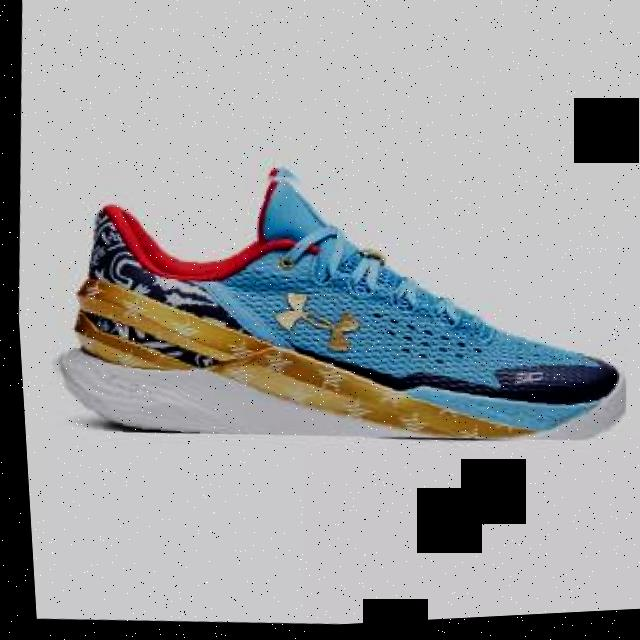shoe: (30, 137, 637, 471)
